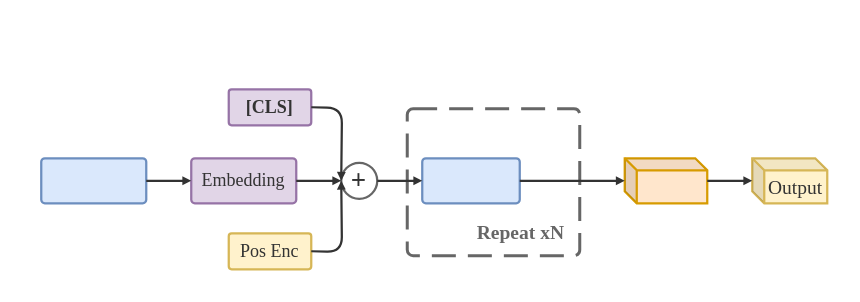
The diagram is 860 pixels wide and 302 high, and some of its shapes have lost their labels. Each missing label, with the centre of its shape:
Encoder: the point at 470,180
MLP Head: the point at 665,180
Patch Part.: the point at 93,180
